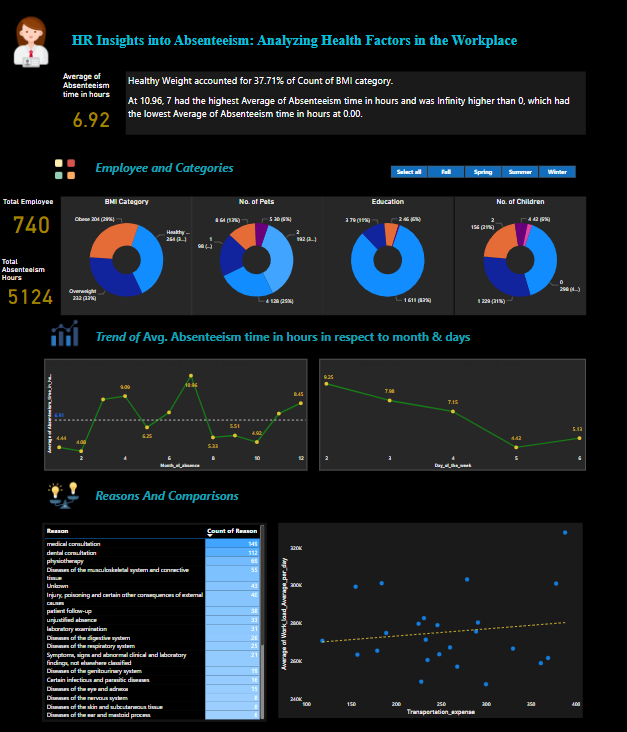

Layout of this report page (visuals, bound fields, positions):
{"tool":"powerbi","page":{"name":"Page 1","canvas":[1450,1700],"ordinal":0},"visuals":[{"type":"card","title":"Average of Absenteeism time in hours","fields":{"Values":["Avg(Query1.Absenteeism_time_in_hours)"]},"box":[146,176,138,144],"z":0},{"type":"donutChart","title":"No. of Pets","fields":{"Y":["Sum(Query1.Pet)"],"Category":["Query1.Pet"]},"box":[441.7,461.7,300,270],"z":1000},{"type":"slicer","fields":{"Values":["Query1.Season_Name"]},"box":[872,384,470,40],"z":2000},{"type":"donutChart","title":" Education","fields":{"Y":["CountNonNull(Query1.Education)"],"Category":["Query1.Education"]},"box":[741.7,461.7,300,270],"z":3000},{"type":"lineChart","fields":{"Y":["Avg(Query1.Absenteeism_time_in_hours)"],"Category":["Query1.Month_of_absence"]},"box":[108.3,832,598.3,253.3],"z":4000},{"type":"donutChart","title":"No. of Children","fields":{"Y":["CountNonNull(Query1.Son)"],"Category":["Query1.Son"]},"box":[1041.7,461.7,300,270],"z":5000},{"type":"lineChart","fields":{"Y":["Avg(Query1.Absenteeism_time_in_hours)"],"Category":["Query1.Day_of_the_week"]},"box":[735,832,606.7,253.3],"z":6000},{"type":"donutChart","title":"BMI Category ","fields":{"Category":["Query1.BMI_category"],"Y":["CountNonNull(Query1.BMI_category)"]},"box":[144.7,461.7,300,270],"z":7000},{"type":"tableEx","fields":{"Values":["Query1.Reason","CountNonNull(Query1.Reason)"]},"box":[101.7,1205,511.7,453.3],"z":8000},{"type":"card","title":"Total Employee","fields":{"Values":["CountNonNull(Query1.ID)"]},"box":[7.7,461.7,138,94],"z":9000},{"type":"scatterChart","fields":{"X":["Query1.Transportation_expense"],"Y":["Avg(Query1.Work_load_Average_per_day)"]},"box":[641.7,1205,693.3,445],"z":10000},{"type":"card","title":"Total Absenteeism Hours","fields":{"Values":["Sum(Query1.Absenteeism_time_in_hours)"]},"box":[6.7,596.7,138.3,113.3],"z":11000},{"type":"textbox","box":[294,176,1048,144],"z":12000},{"type":"textbox","box":[156,82,1042,48],"z":13000},{"type":"textbox","box":[218.3,1118.3,366.7,50],"z":14000},{"type":"image","box":[108.3,1103.3,86.7,80],"z":15000},{"type":"textbox","box":[218.3,756.7,1010,55],"z":16000},{"type":"image","box":[111.7,731.7,86.7,80],"z":17000},{"type":"textbox","box":[218.3,371.7,368.3,51.7],"z":18000},{"type":"image","box":[111.7,363.3,86.7,70],"z":19000},{"type":"image","box":[2,30,150,150],"z":20000}]}

Visuals, with their boxes in screenshot pixels (x1, y1, x2, y2), scaled from the page's 1450x1700 canvas onto the 627x732 screenshot:
"Average of Absenteeism time in hours" card: x1=63 y1=76 x2=123 y2=138
"No. of Pets" donutChart: x1=191 y1=199 x2=321 y2=315
slicer - Query1.Season_Name: x1=377 y1=165 x2=580 y2=183
" Education" donutChart: x1=321 y1=199 x2=450 y2=315
lineChart - Avg(Query1.Absenteeism_time_in_hours) x Query1.Month_of_absence: x1=47 y1=358 x2=306 y2=467
"No. of Children" donutChart: x1=450 y1=199 x2=580 y2=315
lineChart - Avg(Query1.Absenteeism_time_in_hours) x Query1.Day_of_the_week: x1=318 y1=358 x2=580 y2=467
"BMI Category " donutChart: x1=63 y1=199 x2=192 y2=315
tableEx - Query1.Reason x CountNonNull(Query1.Reason): x1=44 y1=519 x2=265 y2=714
"Total Employee" card: x1=3 y1=199 x2=63 y2=239
scatterChart - Query1.Transportation_expense x Avg(Query1.Work_load_Average_per_day): x1=277 y1=519 x2=577 y2=710
"Total Absenteeism Hours" card: x1=3 y1=257 x2=63 y2=306
textbox: x1=127 y1=76 x2=580 y2=138
textbox: x1=67 y1=35 x2=518 y2=56
textbox: x1=94 y1=482 x2=253 y2=503
image: x1=47 y1=475 x2=84 y2=510
textbox: x1=94 y1=326 x2=531 y2=350
image: x1=48 y1=315 x2=86 y2=350
textbox: x1=94 y1=160 x2=254 y2=182
image: x1=48 y1=156 x2=86 y2=187
image: x1=1 y1=13 x2=66 y2=78
